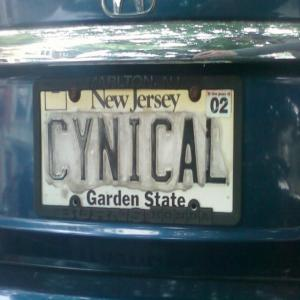Vehicle-registration-plate: (34, 76, 243, 229)
